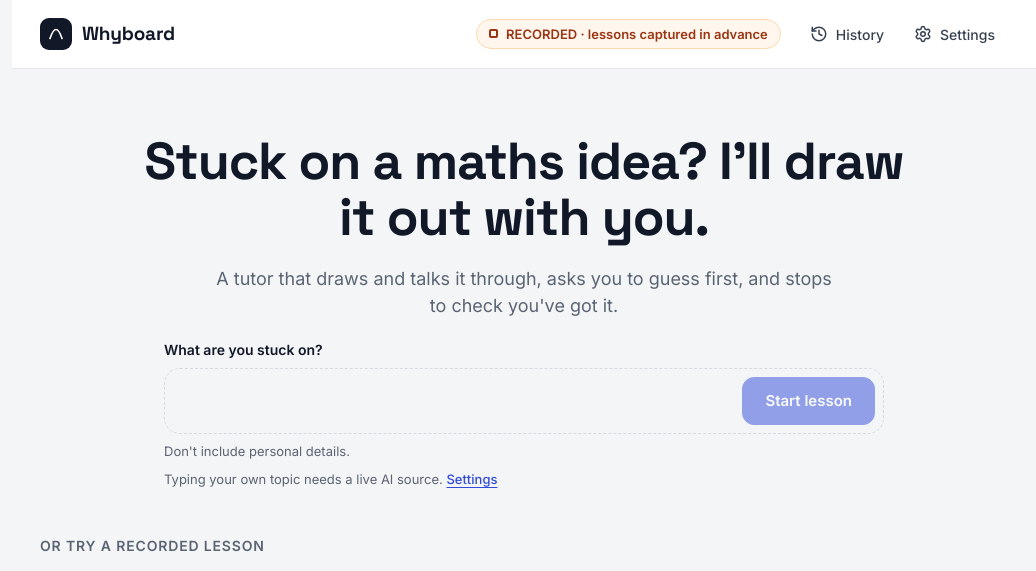
Test: history and resume › a live lesson without its source opens read-only with a banner and Settings link
Later steps or results of the test are not shown.
Step 1. Click the button "History" → (847, 34), box [797,12,897,56]
Wait 200 ms
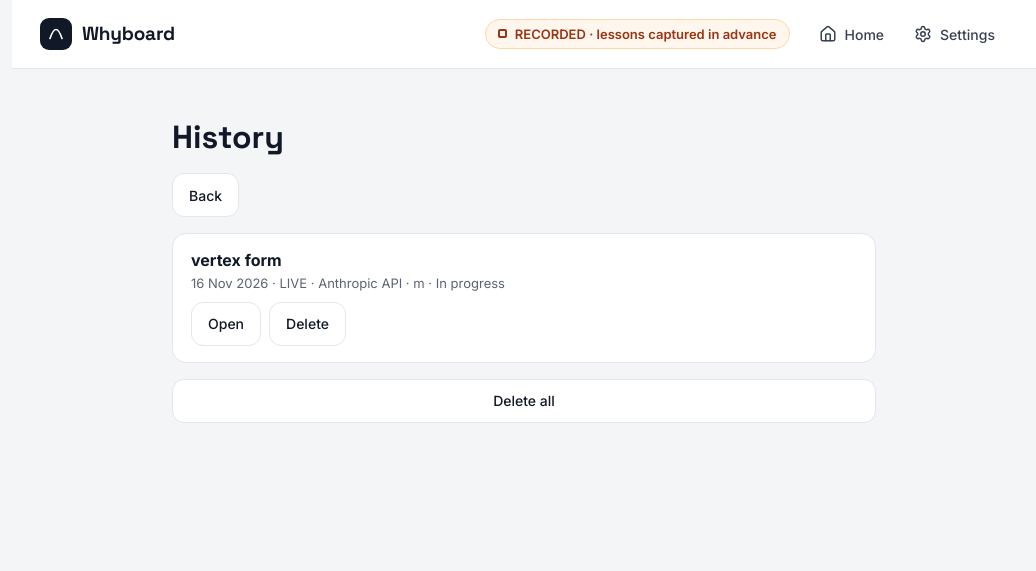
Step 2. Click the button with aria-label "Open vertex form" → (226, 324), box [191,302,261,346]
Wait 200 ms
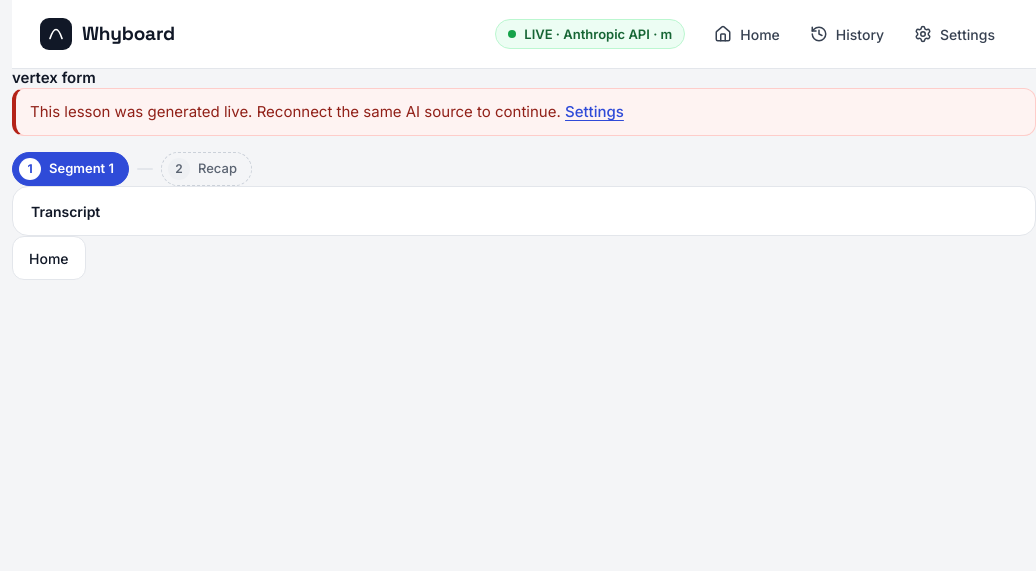
Result: the text "This lesson was generated live. Reconnect the same AI source to continue." is shown at [30,102,561,121]
